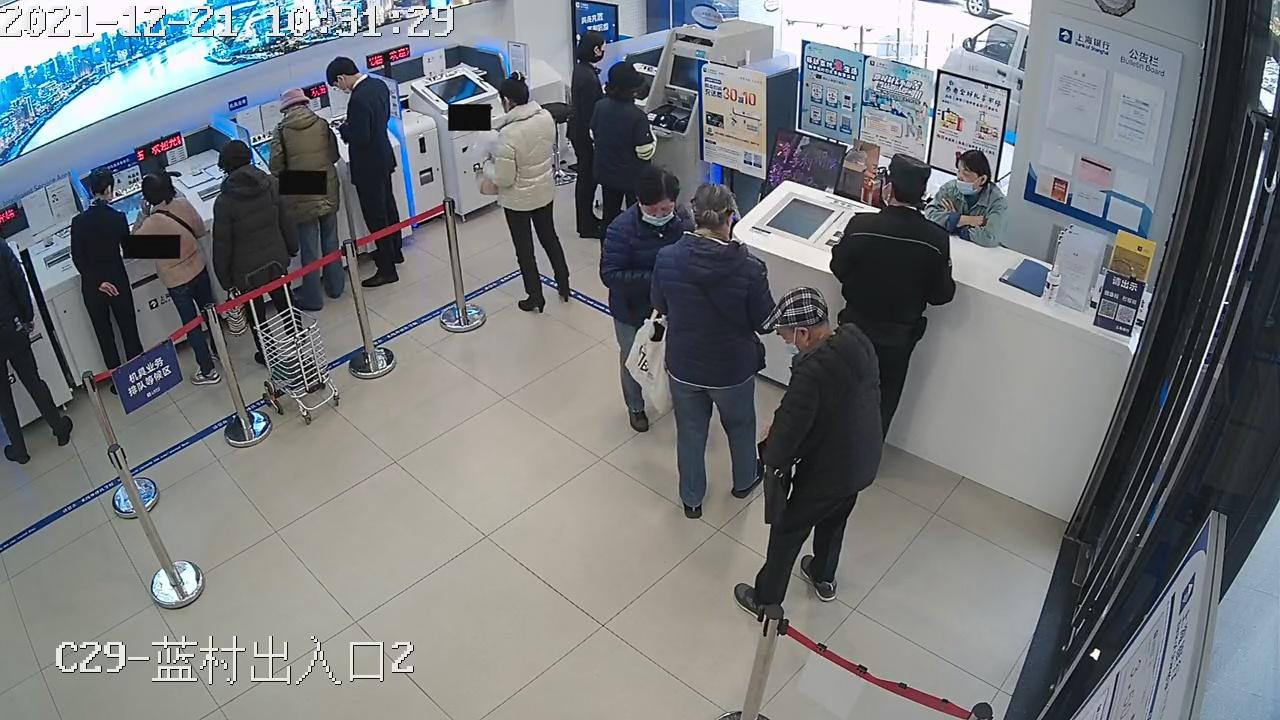person: (738, 284, 883, 634), (647, 183, 776, 520), (831, 153, 956, 450), (599, 167, 691, 435), (477, 74, 572, 314), (324, 53, 407, 286), (133, 171, 223, 385), (211, 141, 297, 364), (267, 84, 352, 302), (0, 217, 73, 463), (268, 86, 347, 307), (0, 234, 75, 463), (69, 170, 144, 374), (591, 62, 656, 236), (564, 31, 609, 237), (924, 148, 1009, 245)
